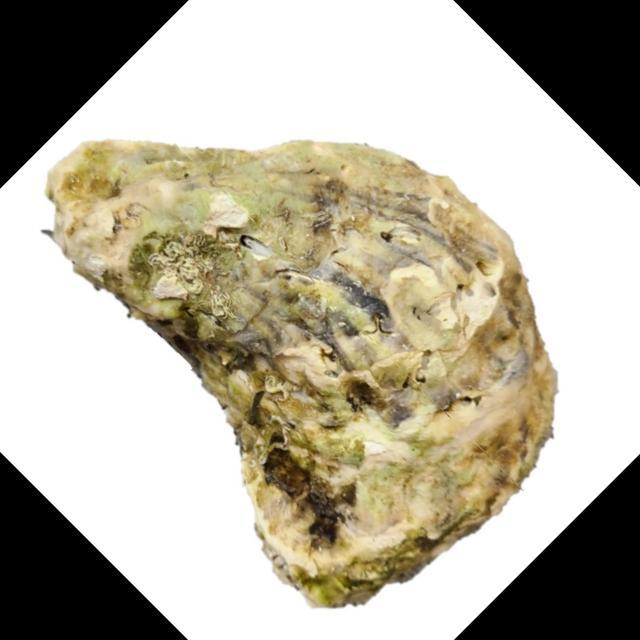Oyster- Indeterminate: (46, 140, 558, 608)
